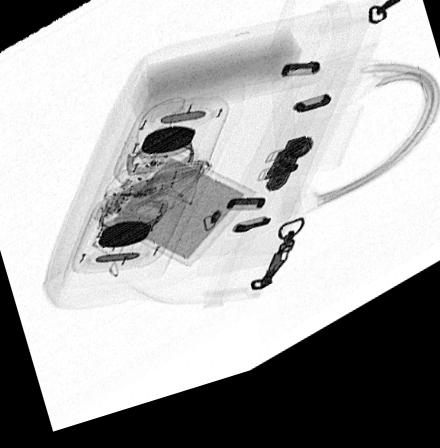Powerbank: (90, 157, 254, 281)
